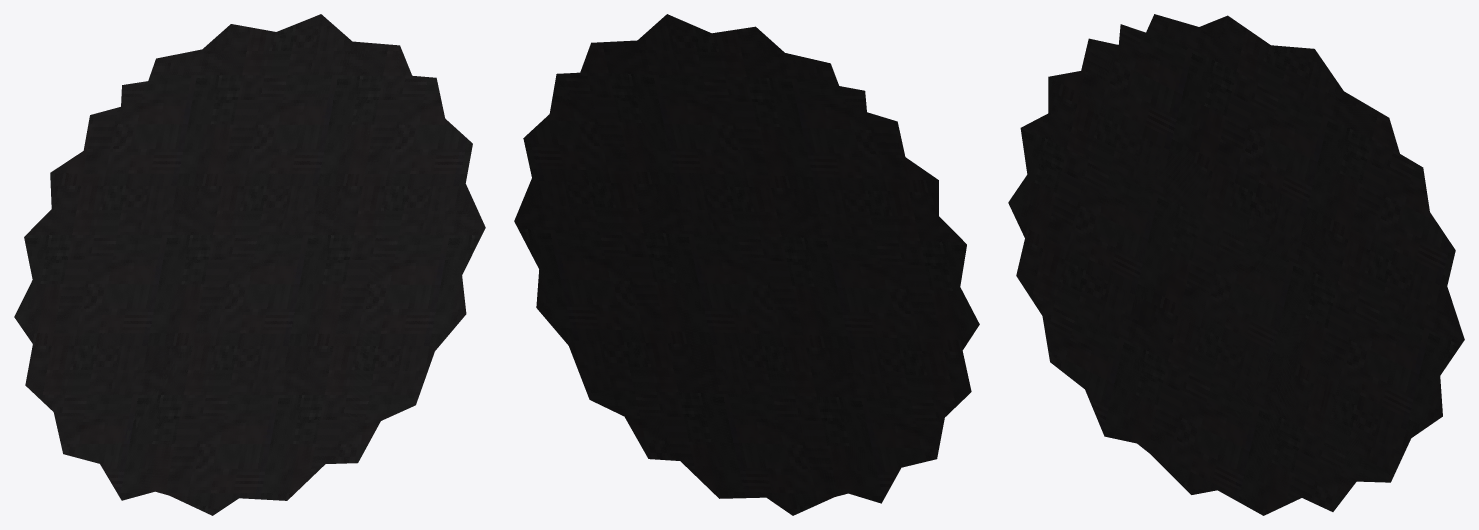
Rendered from original-53.obj.
The picture shows the model from 3 angles, left to right: view 1: azimuth 30°, elevation 25°; view 2: azimuth 150°, elevation 25°; view 3: azimuth 330°, elevation 25°; orthographic projection. The views are drawn at different scales.
Visible parts, largest first — view 1: Group3/mesh2/mesh2-geometry/material_2/component_0#mesh2-geometr; view 2: Group3/mesh2/mesh2-geometry/material_2/component_0#mesh2-geometr; view 3: Group3/mesh2/mesh2-geometry/material_2/component_0#mesh2-geometr.
Boxes of the visible parts, <box> form: Group3/mesh2/mesh2-geometry/material_2/component_0#mesh2-geometr: <box>14,14,485,515</box>; Group3/mesh2/mesh2-geometry/material_2/component_0#mesh2-geometr: <box>514,14,979,515</box>; Group3/mesh2/mesh2-geometry/material_2/component_0#mesh2-geometr: <box>1008,14,1464,515</box>.
Size of the model in its own units: 0.2079 by 0.206 by 0.00945.
2 materials, 1 textured.
